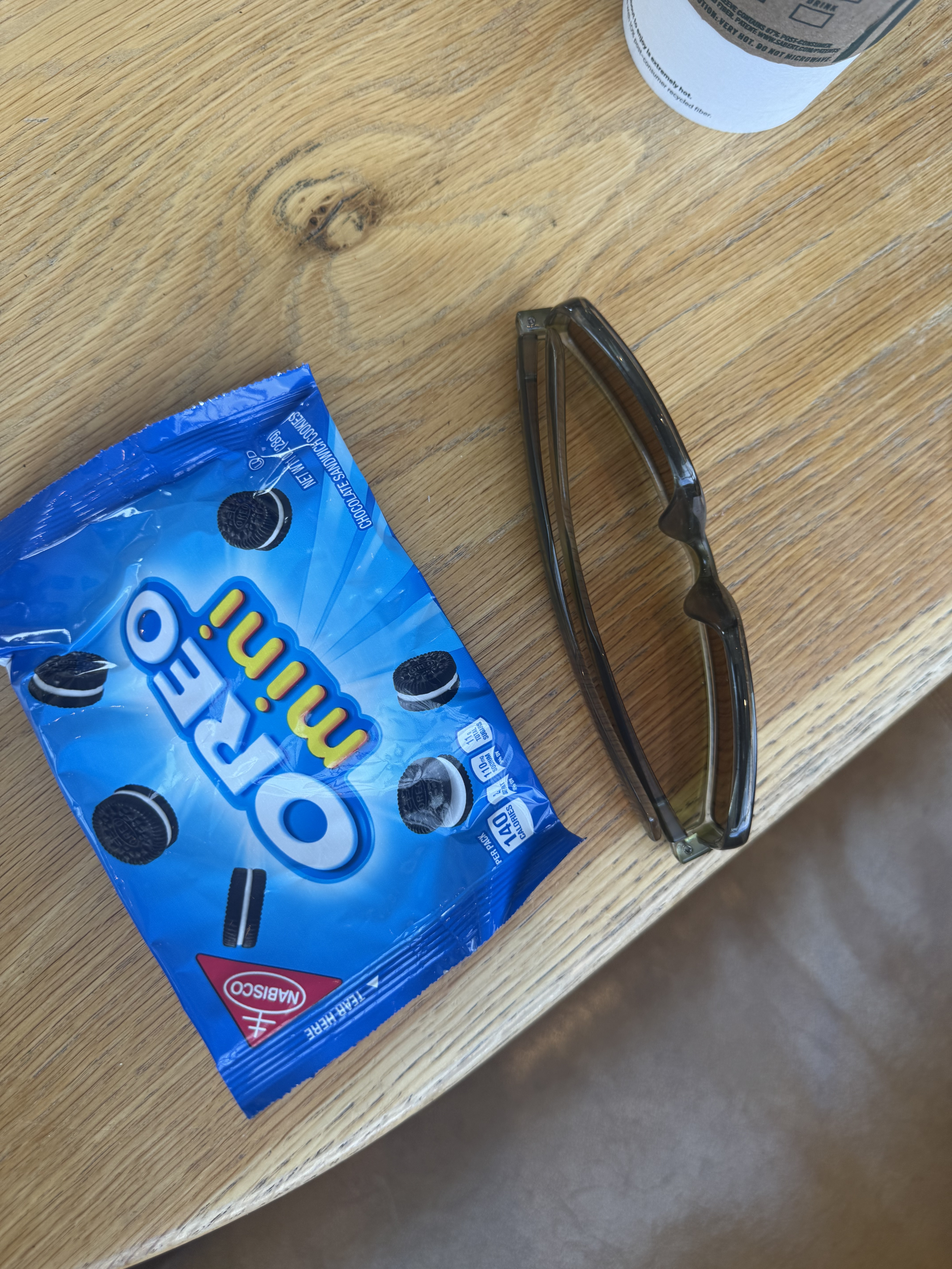oreo_mini: (0, 500, 446, 1094)
